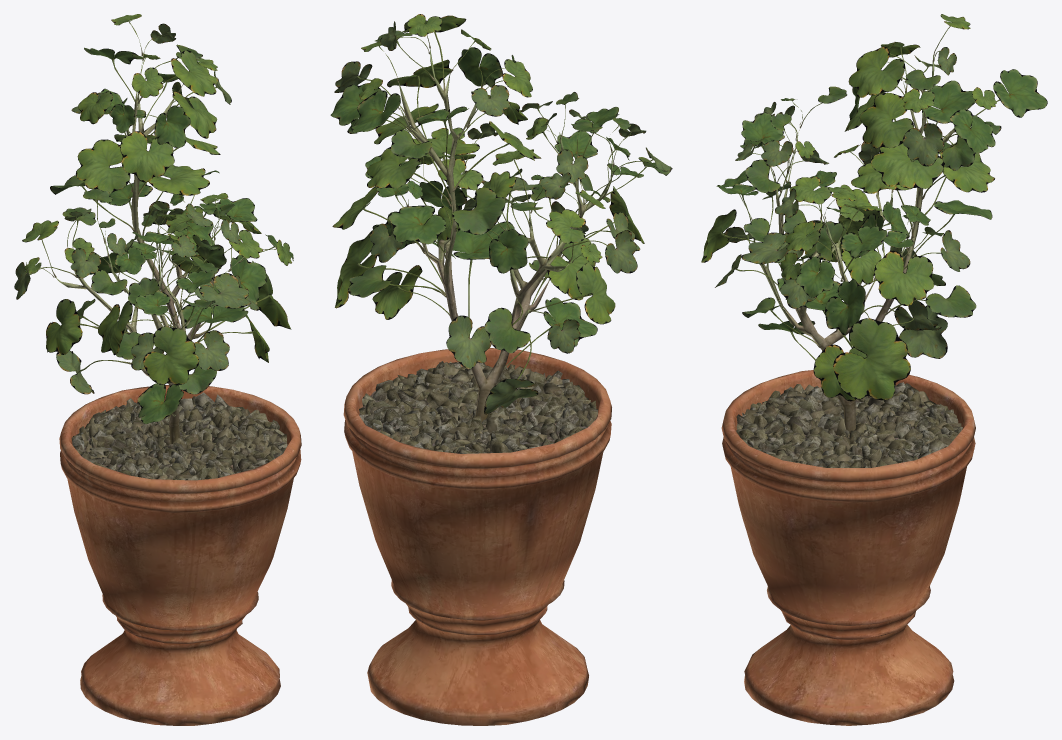
File: potted-plant-01-runtime-lite.glb
The picture shows the model from 3 angles, left to right: view 1: azimuth 30°, elevation 25°; view 2: azimuth 150°, elevation 25°; view 3: azimuth 270°, elevation 25°; orthographic projection. The views are drawn at different scales.
Parts seen in each view (by area): view 1: potted_plant_01_stem, potted_plant_01_leaves; view 2: potted_plant_01_stem, potted_plant_01_leaves; view 3: potted_plant_01_stem, potted_plant_01_leaves.
Part boxes in pixels (x1,y1,x2,y2): potted_plant_01_stem: (54,54,301,725); potted_plant_01_leaves: (14,14,293,423); potted_plant_01_stem: (343,49,612,725); potted_plant_01_leaves: (330,14,672,414); potted_plant_01_stem: (721,55,975,725); potted_plant_01_leaves: (701,14,1047,401).
Bounding box in the file's own units: 0.5874 × 1.34 × 0.6336.
Materials: 2 (2 with a texture image).
